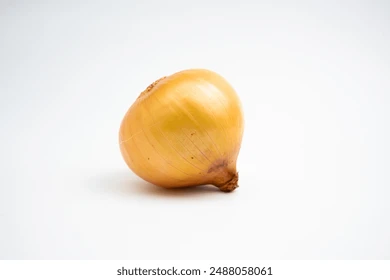onion: (113, 69, 261, 197)
